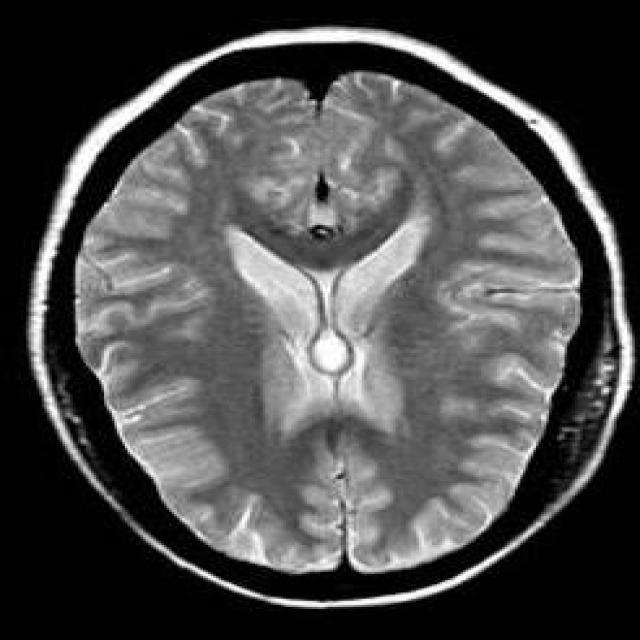Tumor-Cell: (244, 109, 409, 225)
